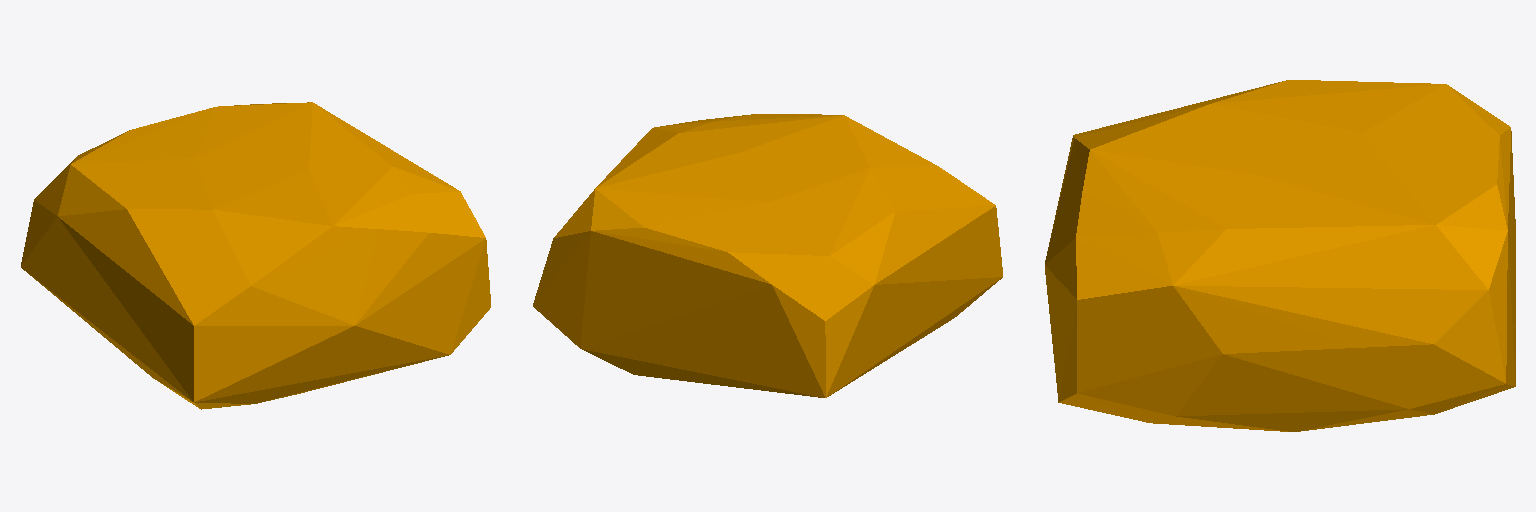
URDF robot description (14_248):
<?xml version="1.0"?>
<robot name="14_248">
  <link name="link">
    <contact>
      <lateral_friction value="0.6"/>
    </contact>
    <inertial>
      <mass value = "0.2742220900654727"/>
      <inertia ixx="0.00010065020142596432" ixy="-7.99637286769063e-07" ixz="1.140836671135208e-06" iyy="9.973566708882537e-05" iyz="1.732344428467431e-06" izz="0.0001603746088895185" />
    </inertial>
    <visual name="visual">
      <geometry>
        <mesh filename="14_248.obj"/>
      </geometry>
    </visual>
    <collision name="collision">
      <geometry>
        <mesh filename="14_248.obj"/>
      </geometry>
    </collision>
  </link>
</robot>

--- Render facts (derived) ---
Views: 3 orthographic renders of the robot side by side, from view 1: azimuth 30°, elevation 25°; view 2: azimuth 150°, elevation 25°; view 3: azimuth 270°, elevation 25°.
Robot: 14_248 — 1 links, 0 joints (none); root link link; default pose: every joint at zero.
Links seen in each view (by area): view 1: link; view 2: link; view 3: link.
Boxes of the visible links, <box> form: link: <box>21,102,490,409</box>; link: <box>533,114,1002,397</box>; link: <box>1045,80,1515,431</box>.
Size in the robot's own frame: 0.0661 by 0.0652 by 0.0344 metres.
1 mesh visuals loaded from 1 distinct referenced files (1 OBJ).
